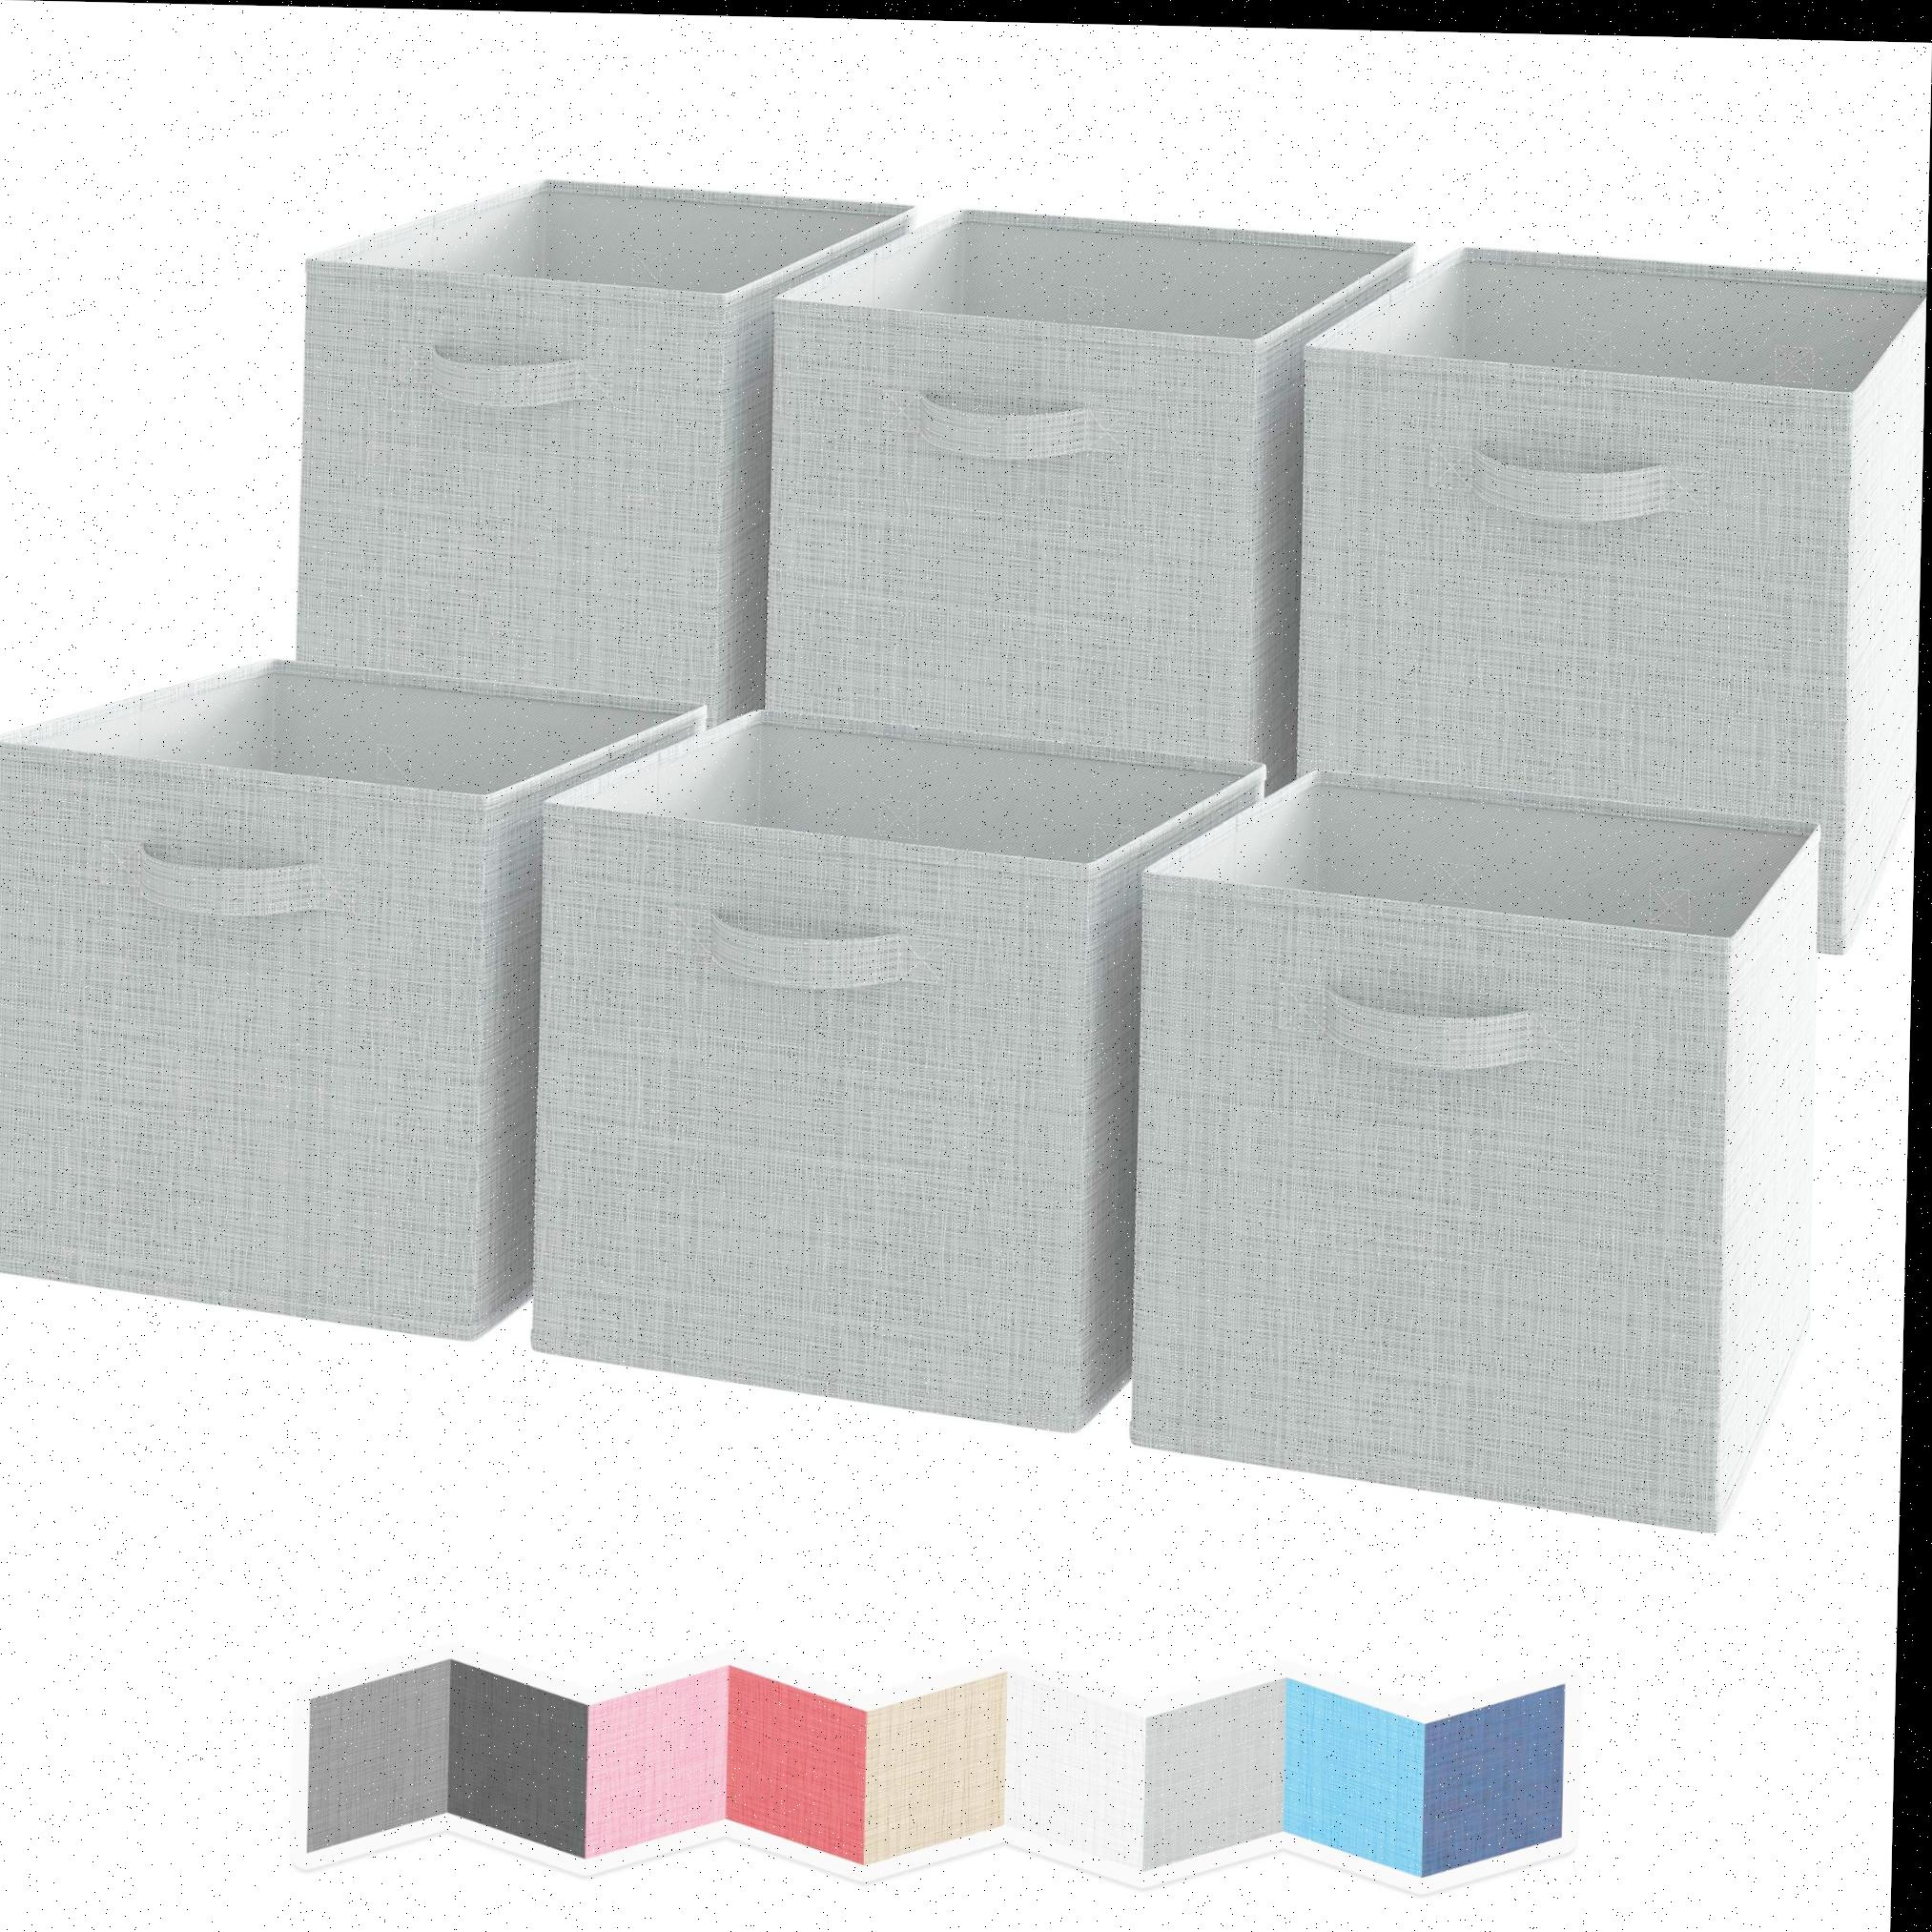cube: (1102, 773, 1821, 1550), (533, 711, 1237, 1445), (0, 633, 697, 1338), (1290, 237, 1928, 922), (747, 205, 1405, 750), (288, 157, 869, 690)
